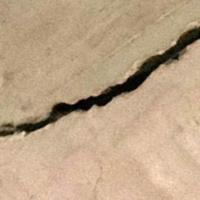crack: (0, 22, 199, 145)
